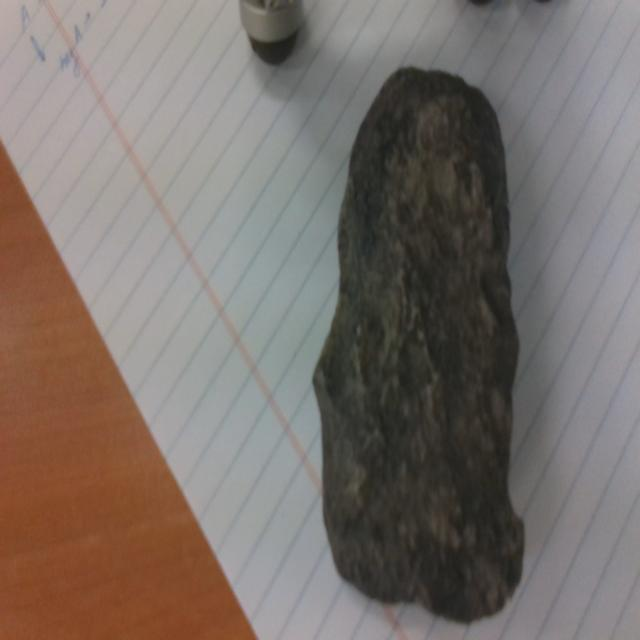stone: (312, 66, 525, 625)
